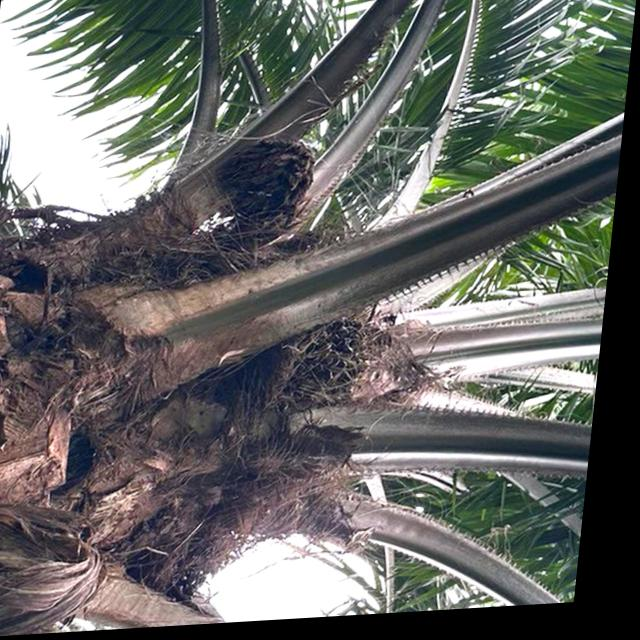unripe: (255, 307, 390, 421)
